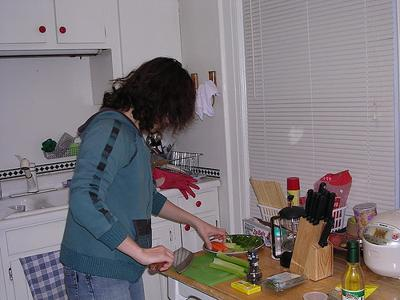person: (58, 58, 227, 300)
